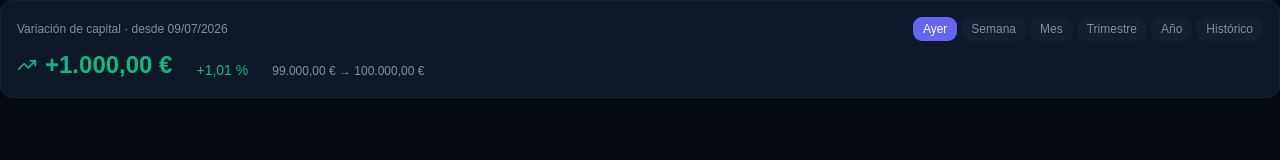
Test: CapitalDelta › Histórico compares against first point and shows net-of-flows variation
Click the button "Histórico" at (1230, 29), box x1=1196 y1=17 x2=1263 y2=41
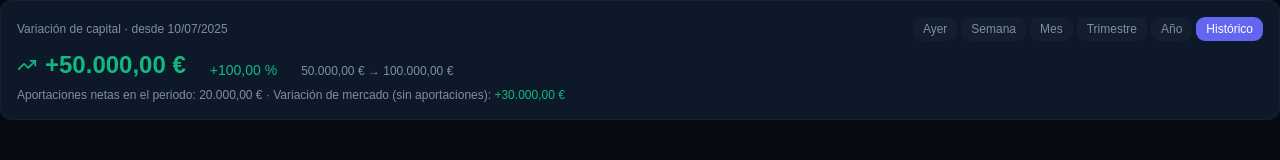
Now the text "+50.000,00 €" is shown, box x1=17 y1=49 x2=186 y2=81
Now the text "Aportaciones netas" is shown, box x1=17 y1=88 x2=199 y2=102
Now the text "+30.000,00 €" is shown, box x1=494 y1=88 x2=565 y2=102
